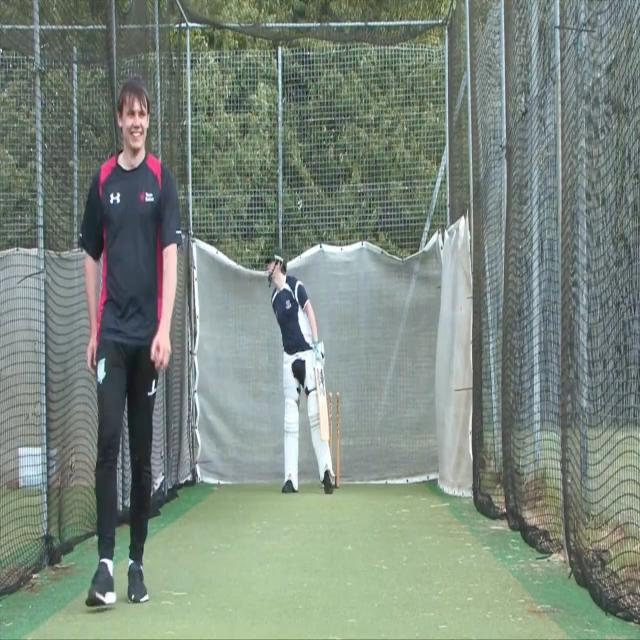batsman: (264, 245, 336, 497)
